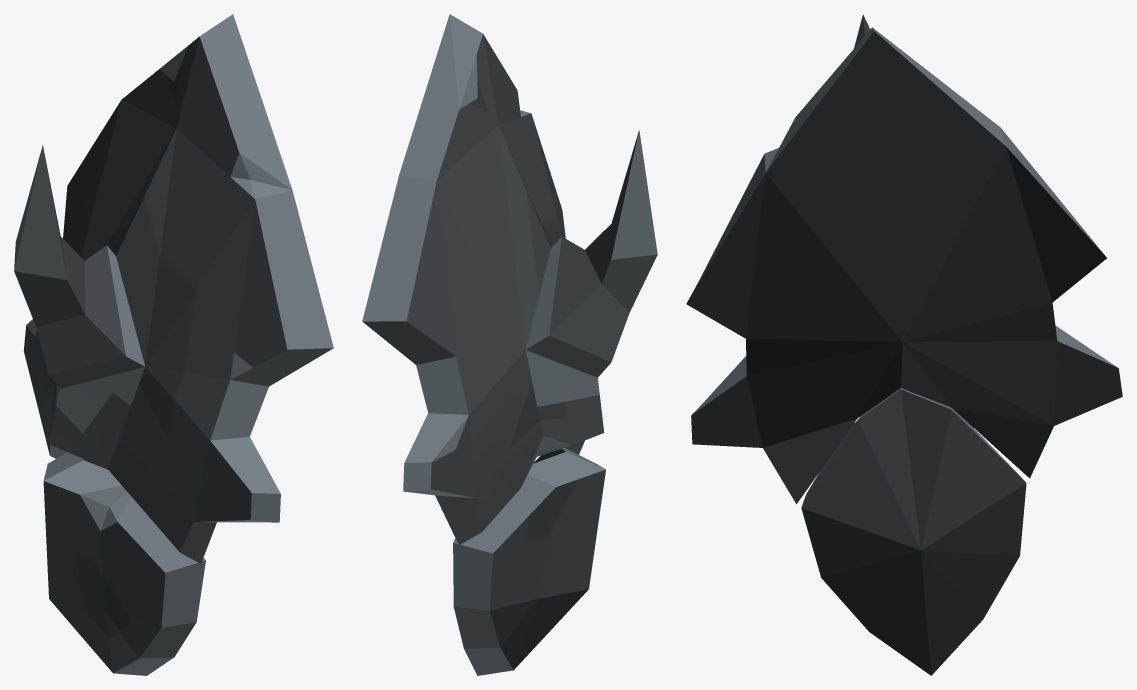
File: SM_Chr_Attach_Armour_Dark_Leg_FR_Small_01.fbx
The picture shows the model from 3 angles, left to right: view 1: azimuth 30°, elevation 25°; view 2: azimuth 150°, elevation 25°; view 3: azimuth 270°, elevation 25°; orthographic projection. The views are drawn at different scales.
Parts seen in each view (by area): view 1: SM_Chr_Attach_Armour_Dark_Leg_FR_Small_01; view 2: SM_Chr_Attach_Armour_Dark_Leg_FR_Small_01; view 3: SM_Chr_Attach_Armour_Dark_Leg_FR_Small_01.
Boxes of the visible parts, x1=… form: SM_Chr_Attach_Armour_Dark_Leg_FR_Small_01: x1=14, y1=14, x2=333, y2=675; SM_Chr_Attach_Armour_Dark_Leg_FR_Small_01: x1=362, y1=14, x2=657, y2=675; SM_Chr_Attach_Armour_Dark_Leg_FR_Small_01: x1=686, y1=14, x2=1122, y2=675.
Bounding box in the file's own units: 10.2 × 28.64 × 16.83.
